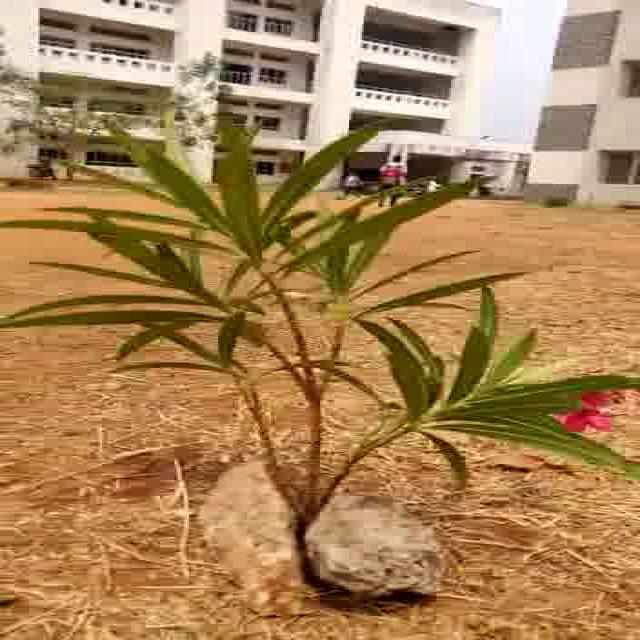Oleander: (40, 109, 640, 491)
